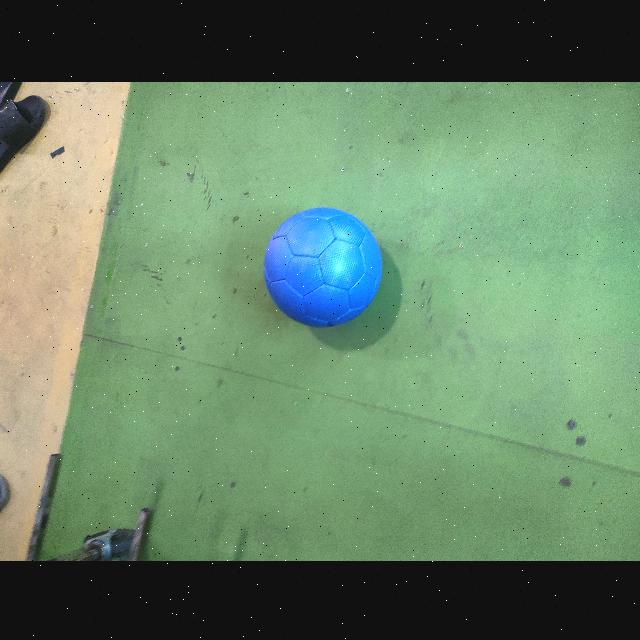B: (264, 204, 386, 326)
